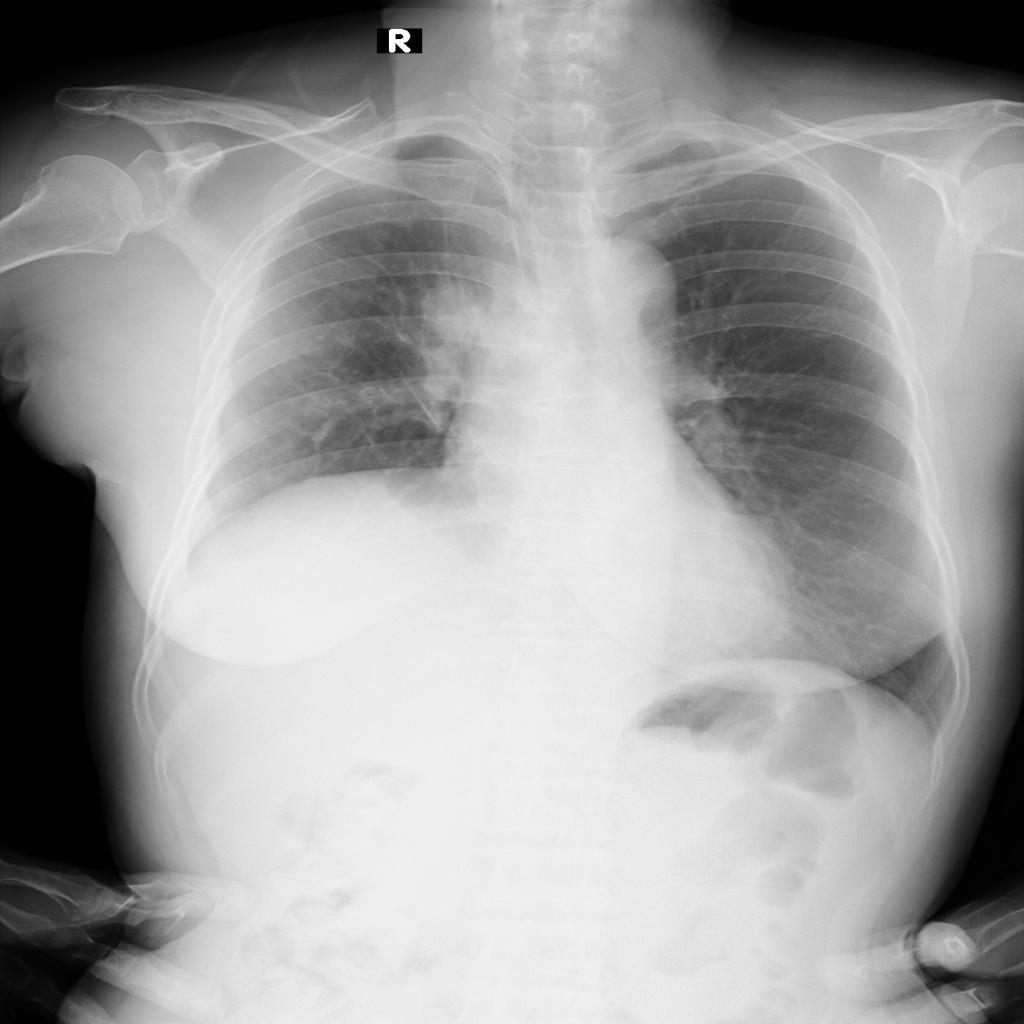Nodule: (421, 284, 486, 357)
